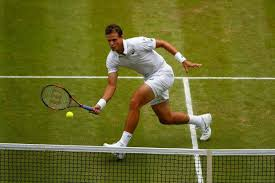tennis ball: (65, 111, 75, 119)
tennis player: (94, 24, 214, 147)
